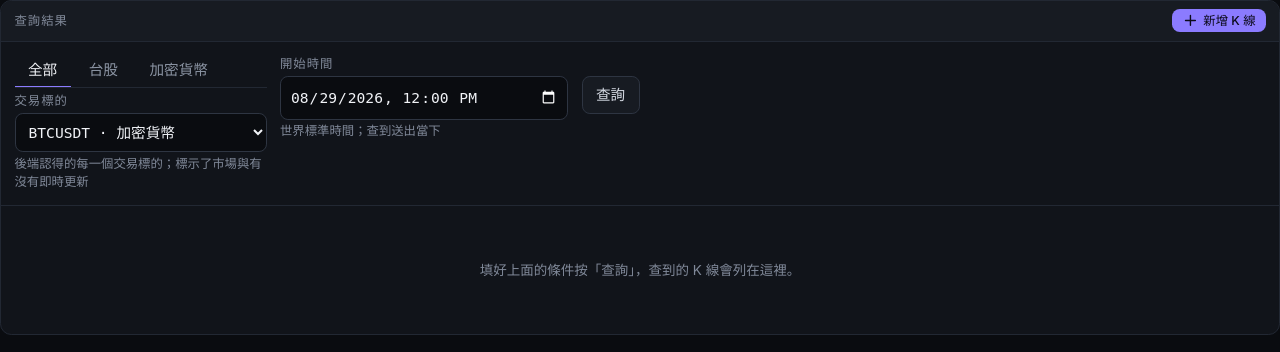
KCandleSearchPanel › 開始時間晚於目前時間 時標在欄位旁且完全不去查詢
Replace the text in the field with test id "start-time-input" with "2026-08-30T12:01". click: (424,98)
box: [280,76,568,120]
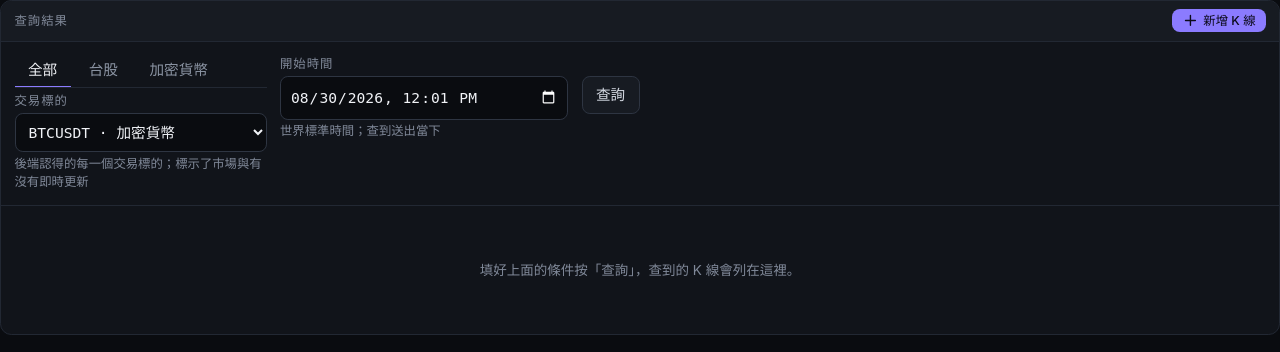
Submit the form, box [14,55,640,189]
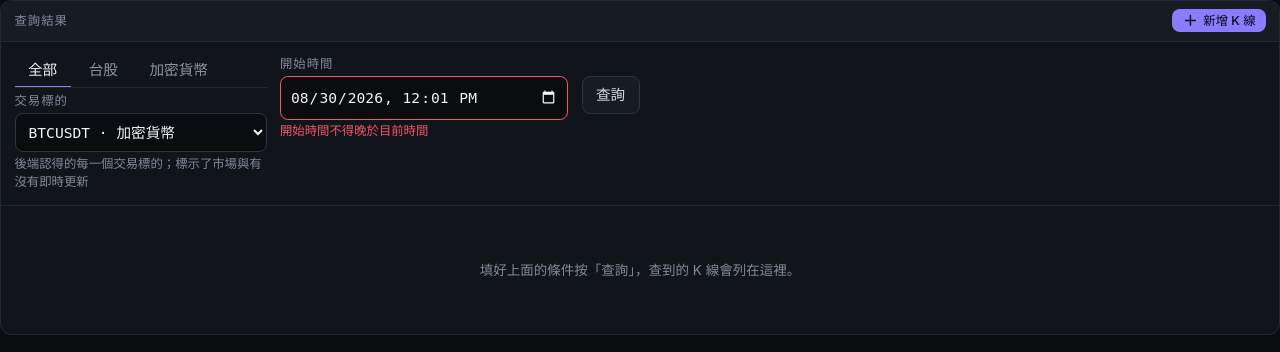
Expected: the text with test id "field-error" reads "開始時間不得晚於目前時間", [280,123,428,138]
